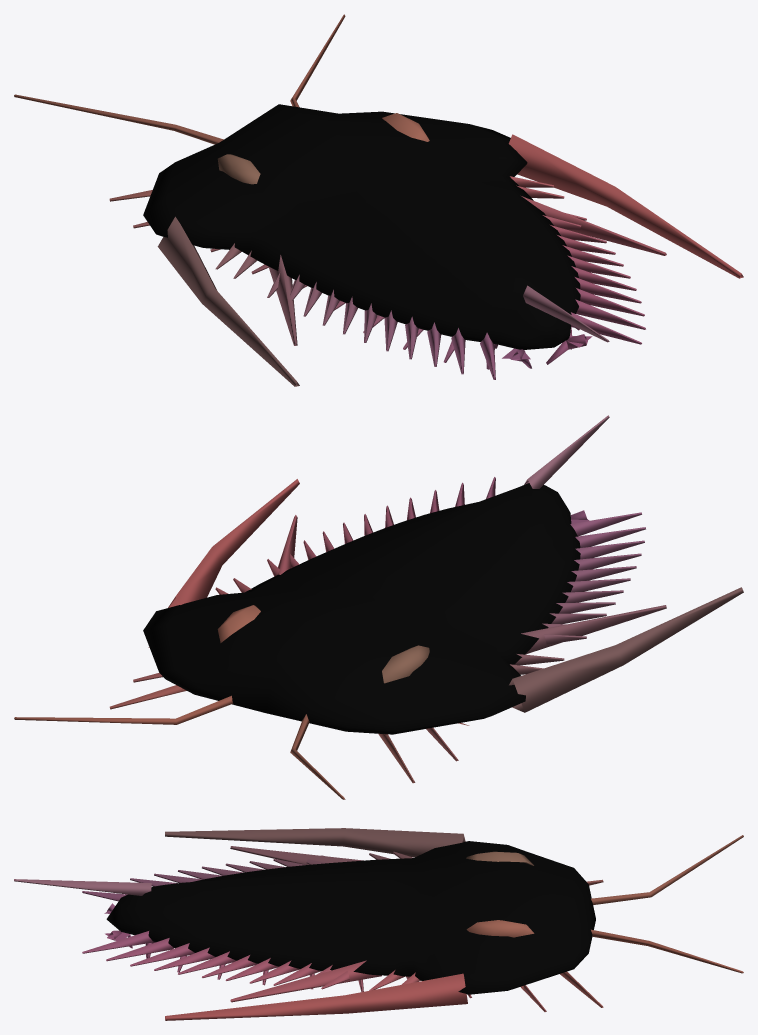
The model's file is trilobite_cheeks_lo.glb.
3 views of the same model, one above another, from view 1: azimuth 30°, elevation 25°; view 2: azimuth 150°, elevation 25°; view 3: azimuth 270°, elevation 25° (orthographic). The views are drawn at different scales.
Parts seen in each view (by area): view 1: trilobite_cheeks_lo; view 2: trilobite_cheeks_lo; view 3: trilobite_cheeks_lo.
Part boxes in pixels (<box>): trilobite_cheeks_lo: <box>14,14,743,386</box>; trilobite_cheeks_lo: <box>14,415,743,799</box>; trilobite_cheeks_lo: <box>14,828,743,1020</box>.
Bounding box in the file's own units: 0.27 × 0.0476 × 0.4472.
